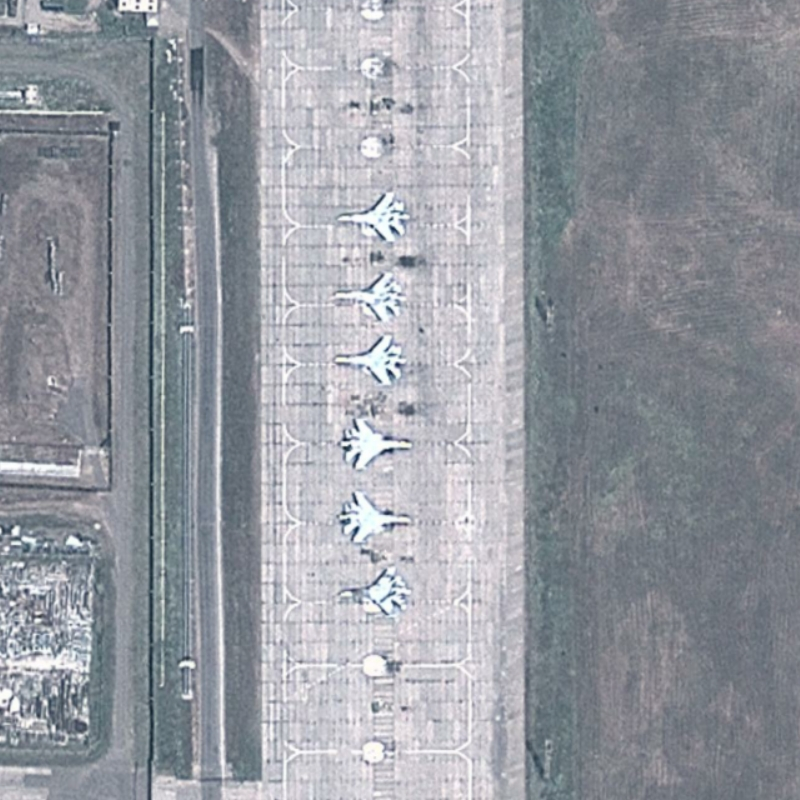A1: (333, 561, 416, 622), (336, 412, 416, 474), (335, 487, 414, 547), (332, 189, 413, 246), (331, 332, 407, 389), (330, 269, 407, 324)
